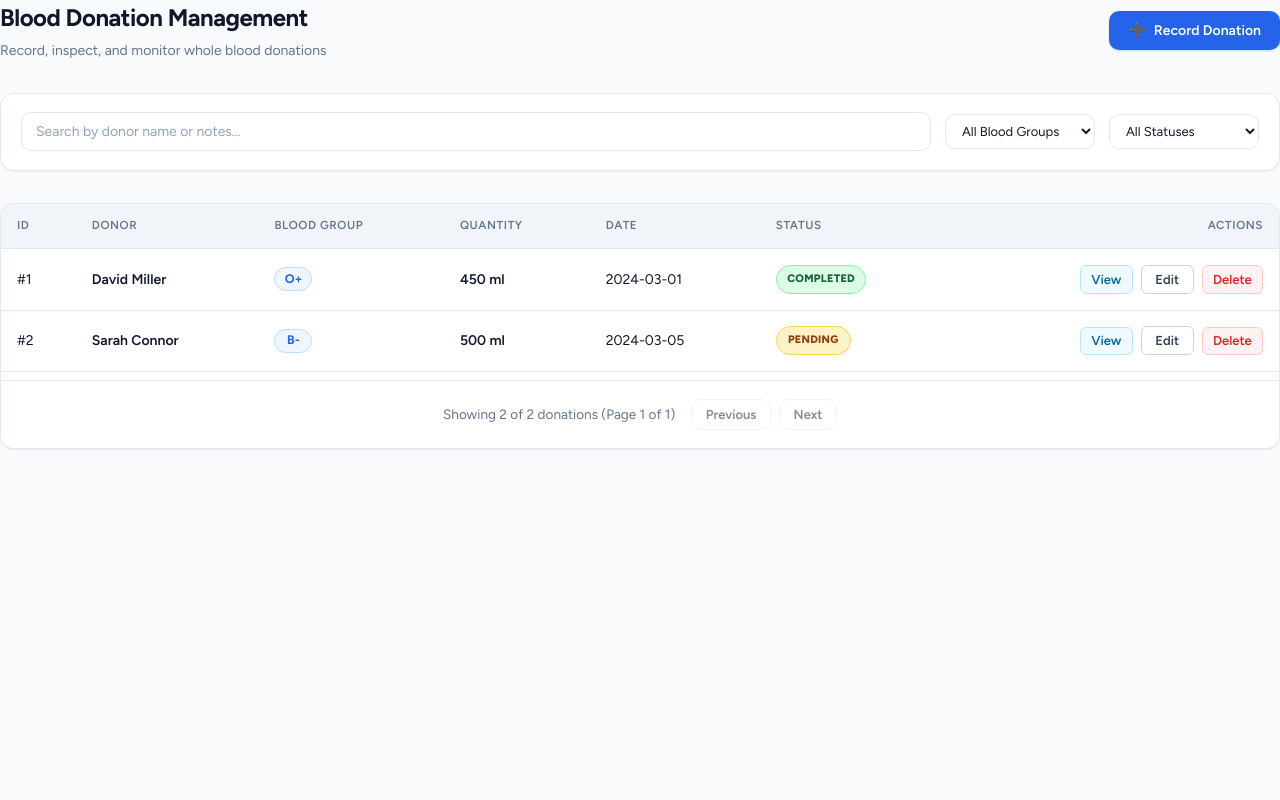
Scenario: Donations Page Component › validates quantity range and required donor selection in Record Donation modal
Click the button with test id "add-donation-btn": coordinates (1195, 30) [1109,11,1279,50]
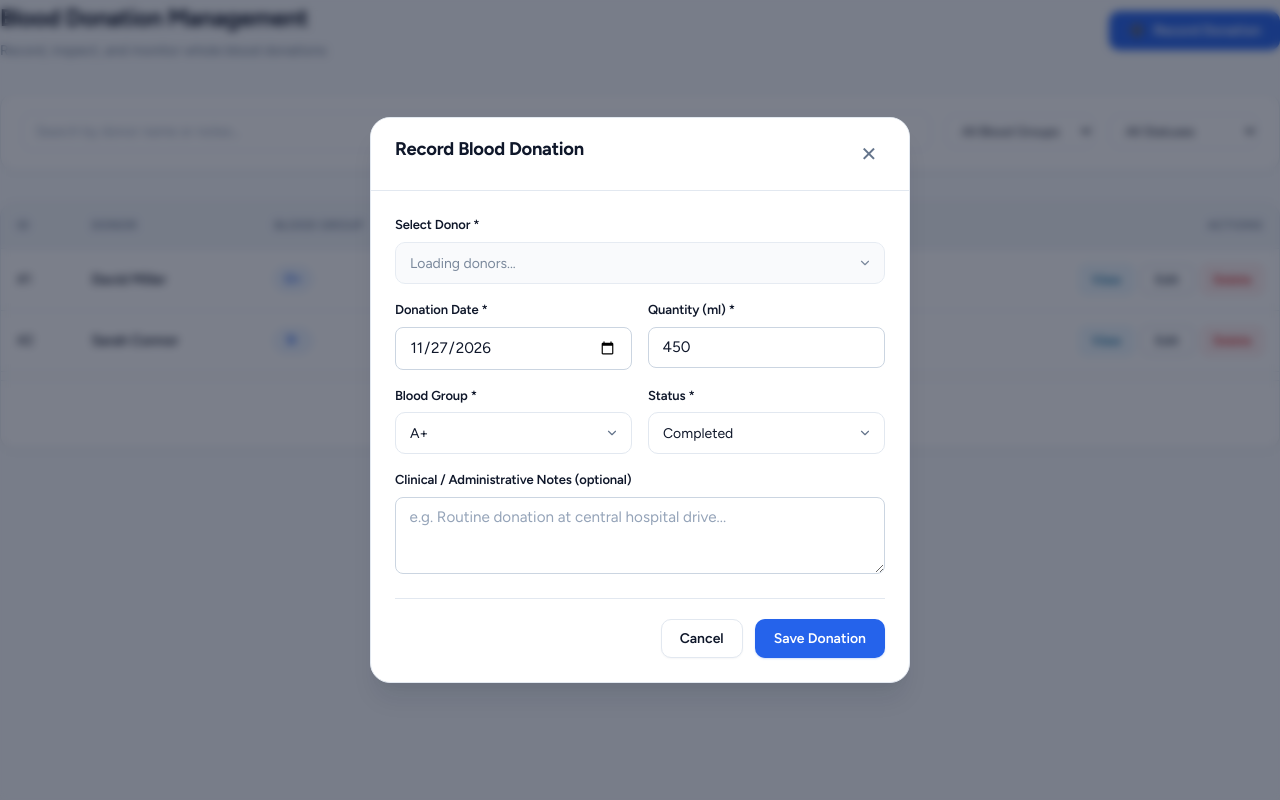
Expected: the element with test id "donation-form-modal" is shown
# Set invalid quantity (below 100ml)
Replace the text in the number field labelled "Quantity (ml) *" with "50": coordinates (766, 347) [648,327,885,368]
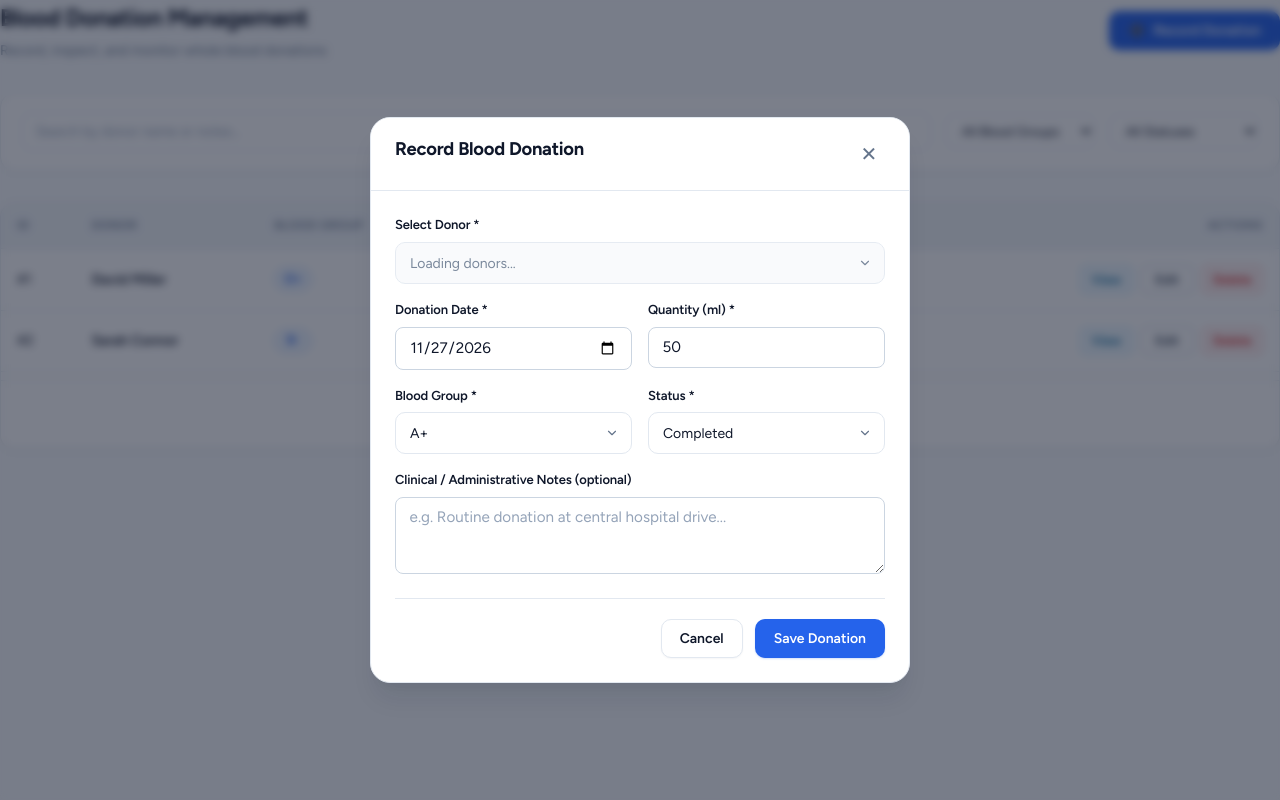
Click the button with test id "submit-donation-btn": coordinates (820, 638) [755,619,885,658]
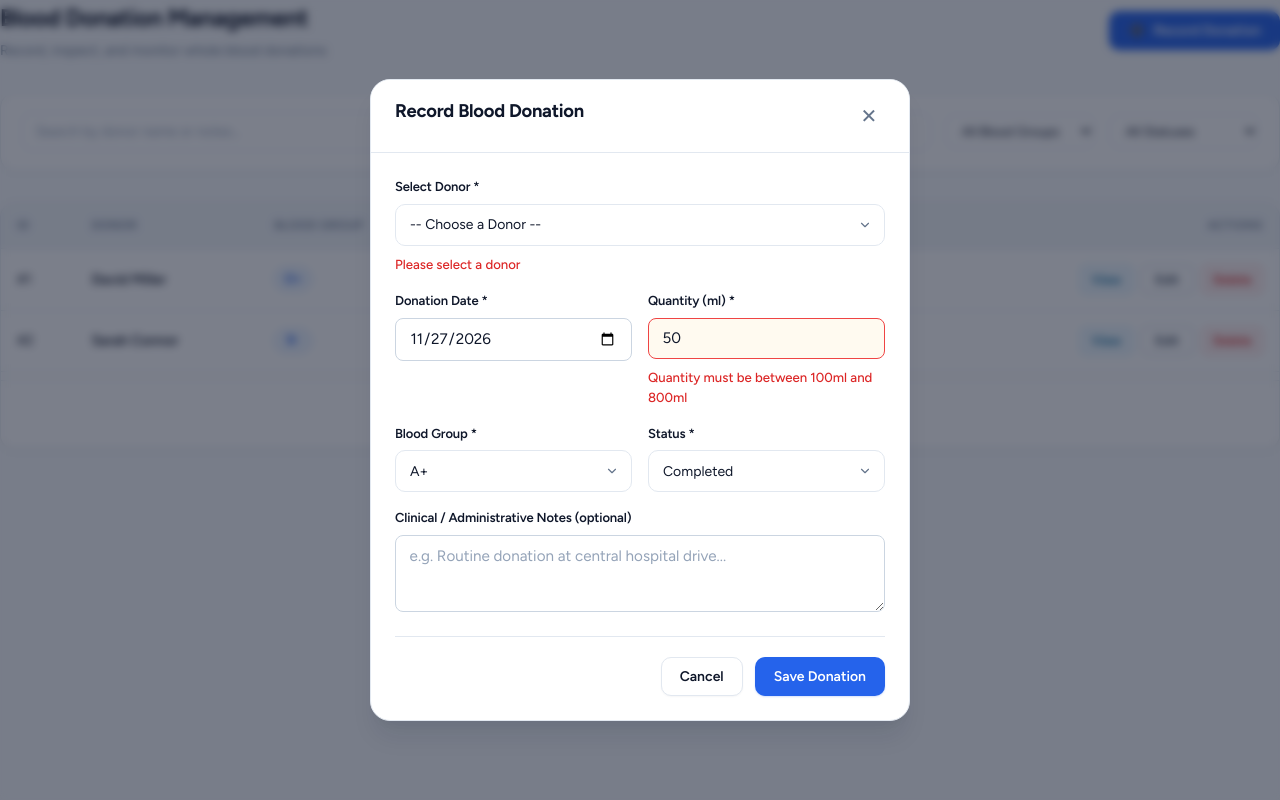
Expected: the text "Please select a donor" is shown, [395,256,520,272]
Expected: the text "Quantity must be between 100ml and 800ml" is shown, [648,368,885,408]
